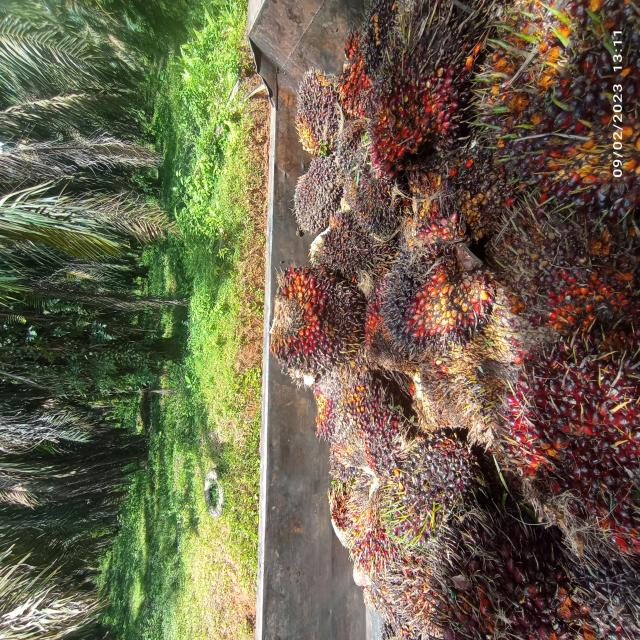fraksi 00: (476, 0, 640, 228), (369, 232, 493, 360), (394, 428, 478, 544), (283, 63, 355, 163), (286, 152, 349, 247), (342, 141, 401, 235), (309, 207, 374, 283)
fraksi 1: (494, 325, 640, 555), (493, 197, 640, 348), (366, 0, 466, 186), (264, 254, 364, 378), (336, 372, 397, 482), (345, 501, 405, 589), (308, 380, 346, 443)
fraksi 4: (330, 15, 388, 127), (361, 303, 394, 373)
